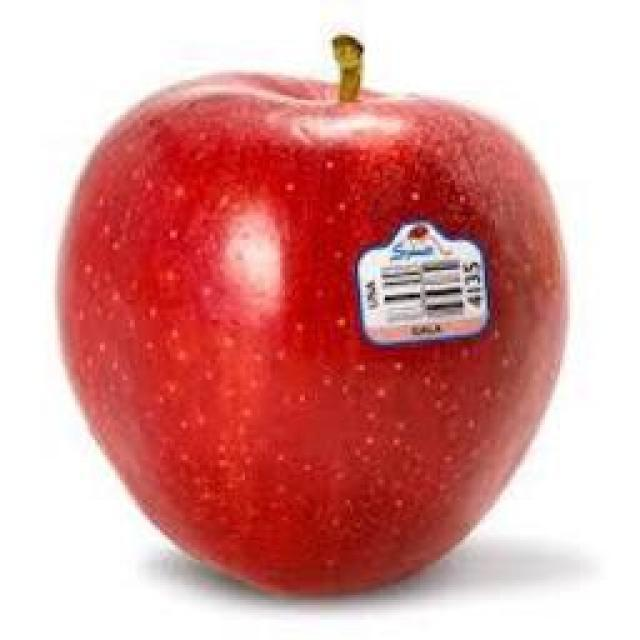Apple: (60, 74, 564, 592)
